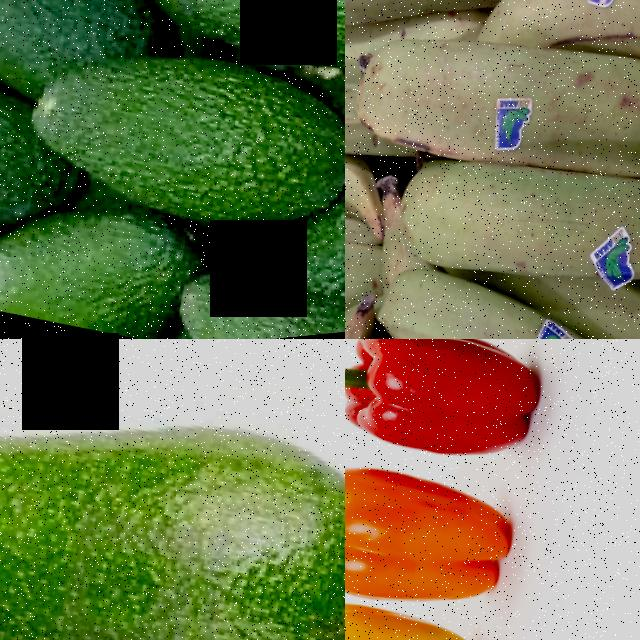avocado: (0, 339, 345, 640), (0, 0, 345, 288), (0, 160, 205, 339), (96, 0, 345, 129), (0, 0, 174, 130), (129, 238, 345, 339), (0, 40, 79, 268)
banana: (345, 91, 640, 339), (345, 0, 640, 246), (463, 0, 640, 169), (345, 0, 555, 71), (345, 119, 394, 274), (345, 62, 397, 186)
bell pepper: (345, 339, 571, 516), (345, 415, 515, 640)
